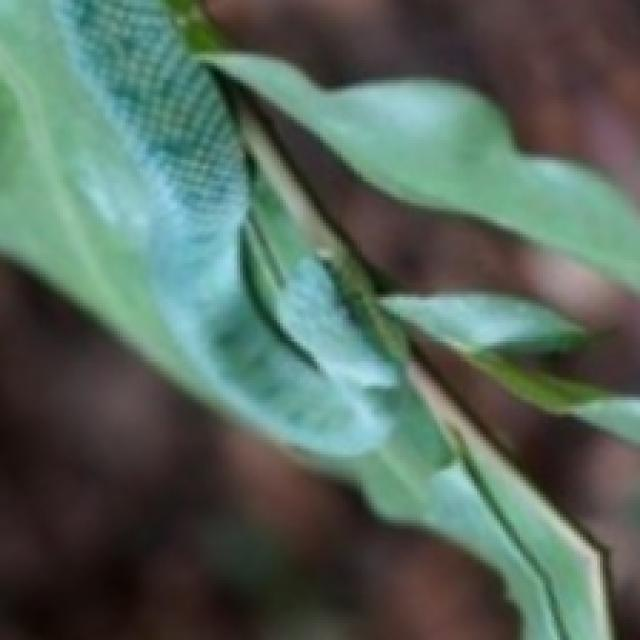north ph temple pitviper: (57, 0, 406, 451)
